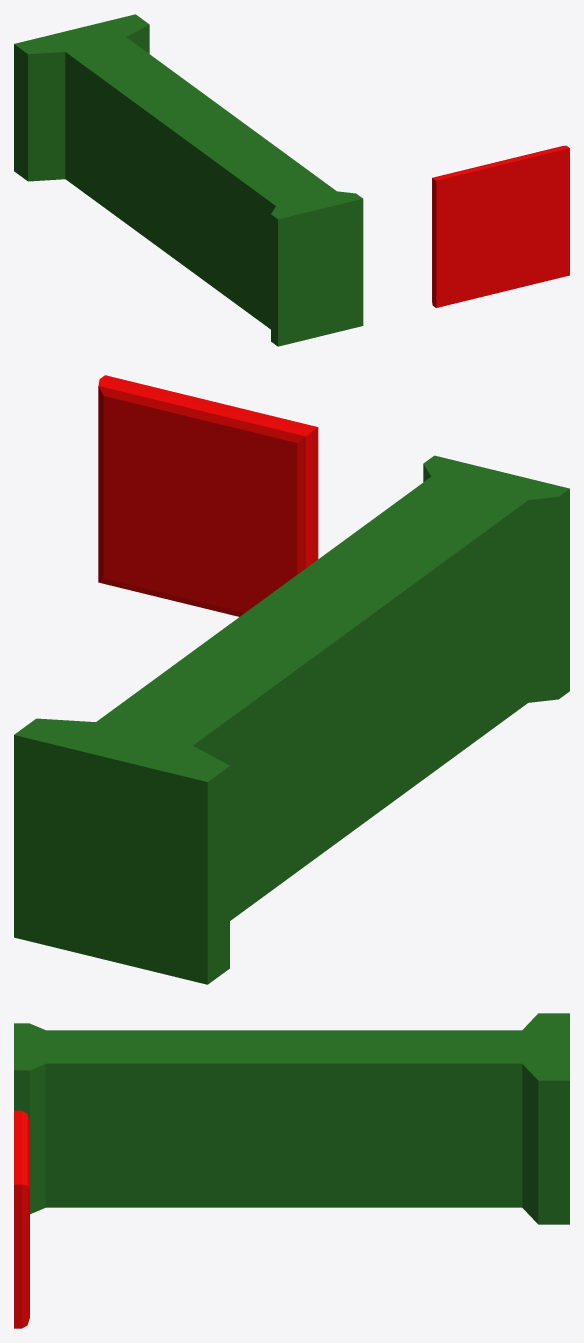
Rendered from Gate.fbx.
3 renders of one model, top to bottom at view 1: azimuth 30°, elevation 25°; view 2: azimuth 150°, elevation 25°; view 3: azimuth 270°, elevation 25°, orthographic. The views are drawn at different scales.
Visible parts, largest first — view 1: Gate, Controller; view 2: Gate, Controller; view 3: Gate, Controller.
Boxes of the visible parts, <box> form: Gate: <box>14,14,363,346</box>; Controller: <box>432,145,569,307</box>; Gate: <box>14,455,569,984</box>; Controller: <box>98,375,318,616</box>; Gate: <box>14,1013,569,1224</box>; Controller: <box>14,1110,29,1328</box>.
Size of the model in its own units: 3.5 by 2.55 by 1.
